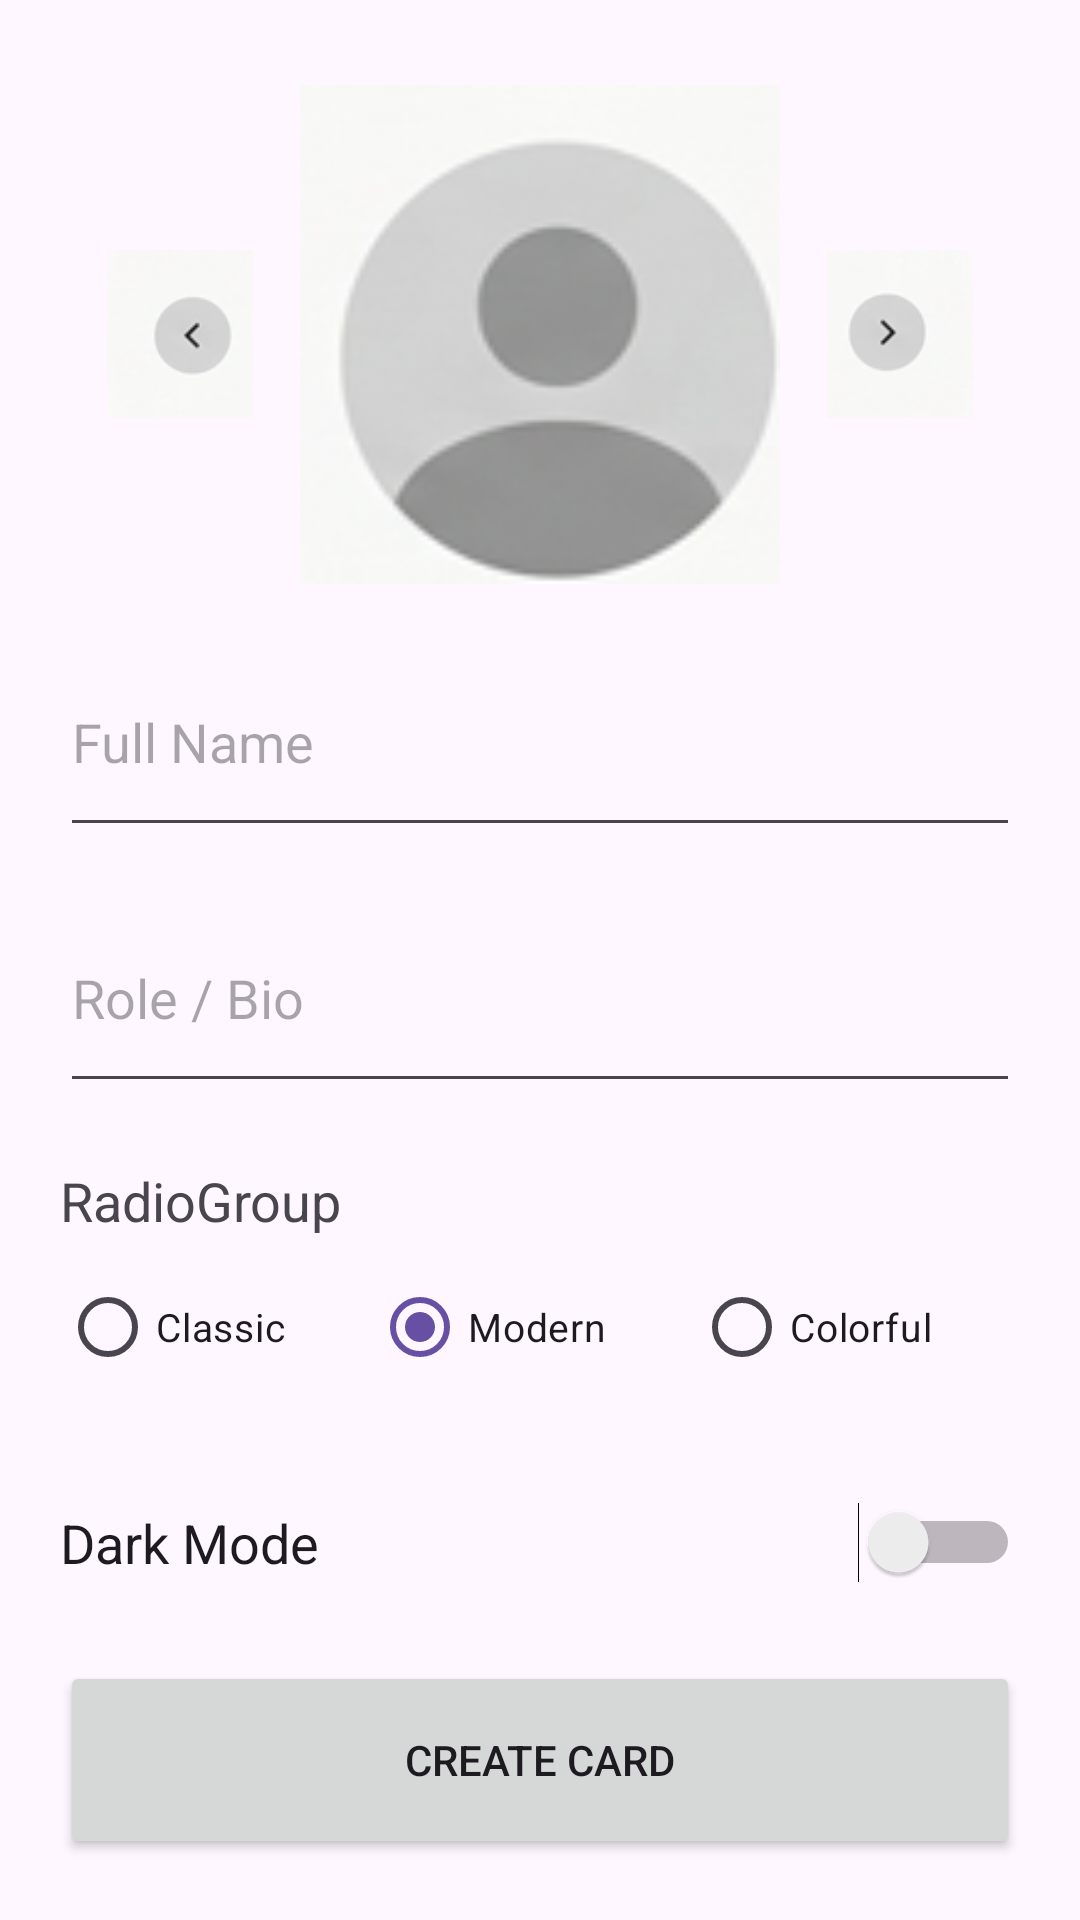

Where icons sit on this 1080x1920 app screen, as (x1,y1,x2,y2):
left: (154,297,231,374)
